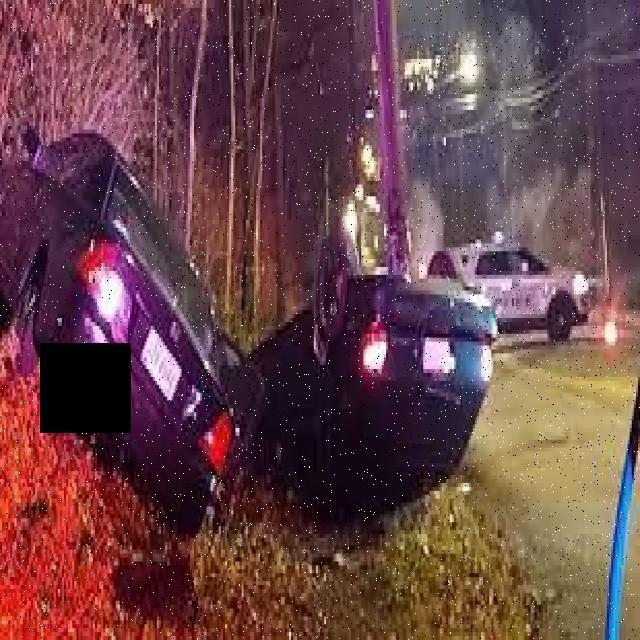multiple_accident: (0, 73, 523, 553)
